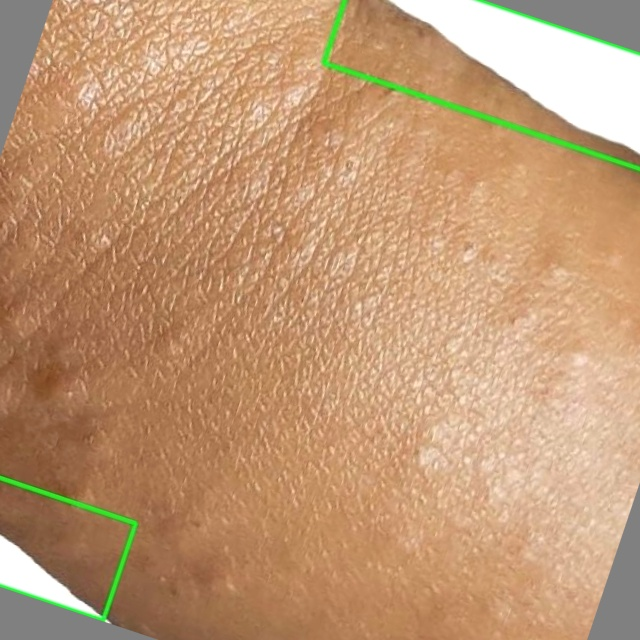Contact Dermatitis: (323, 0, 639, 168)
